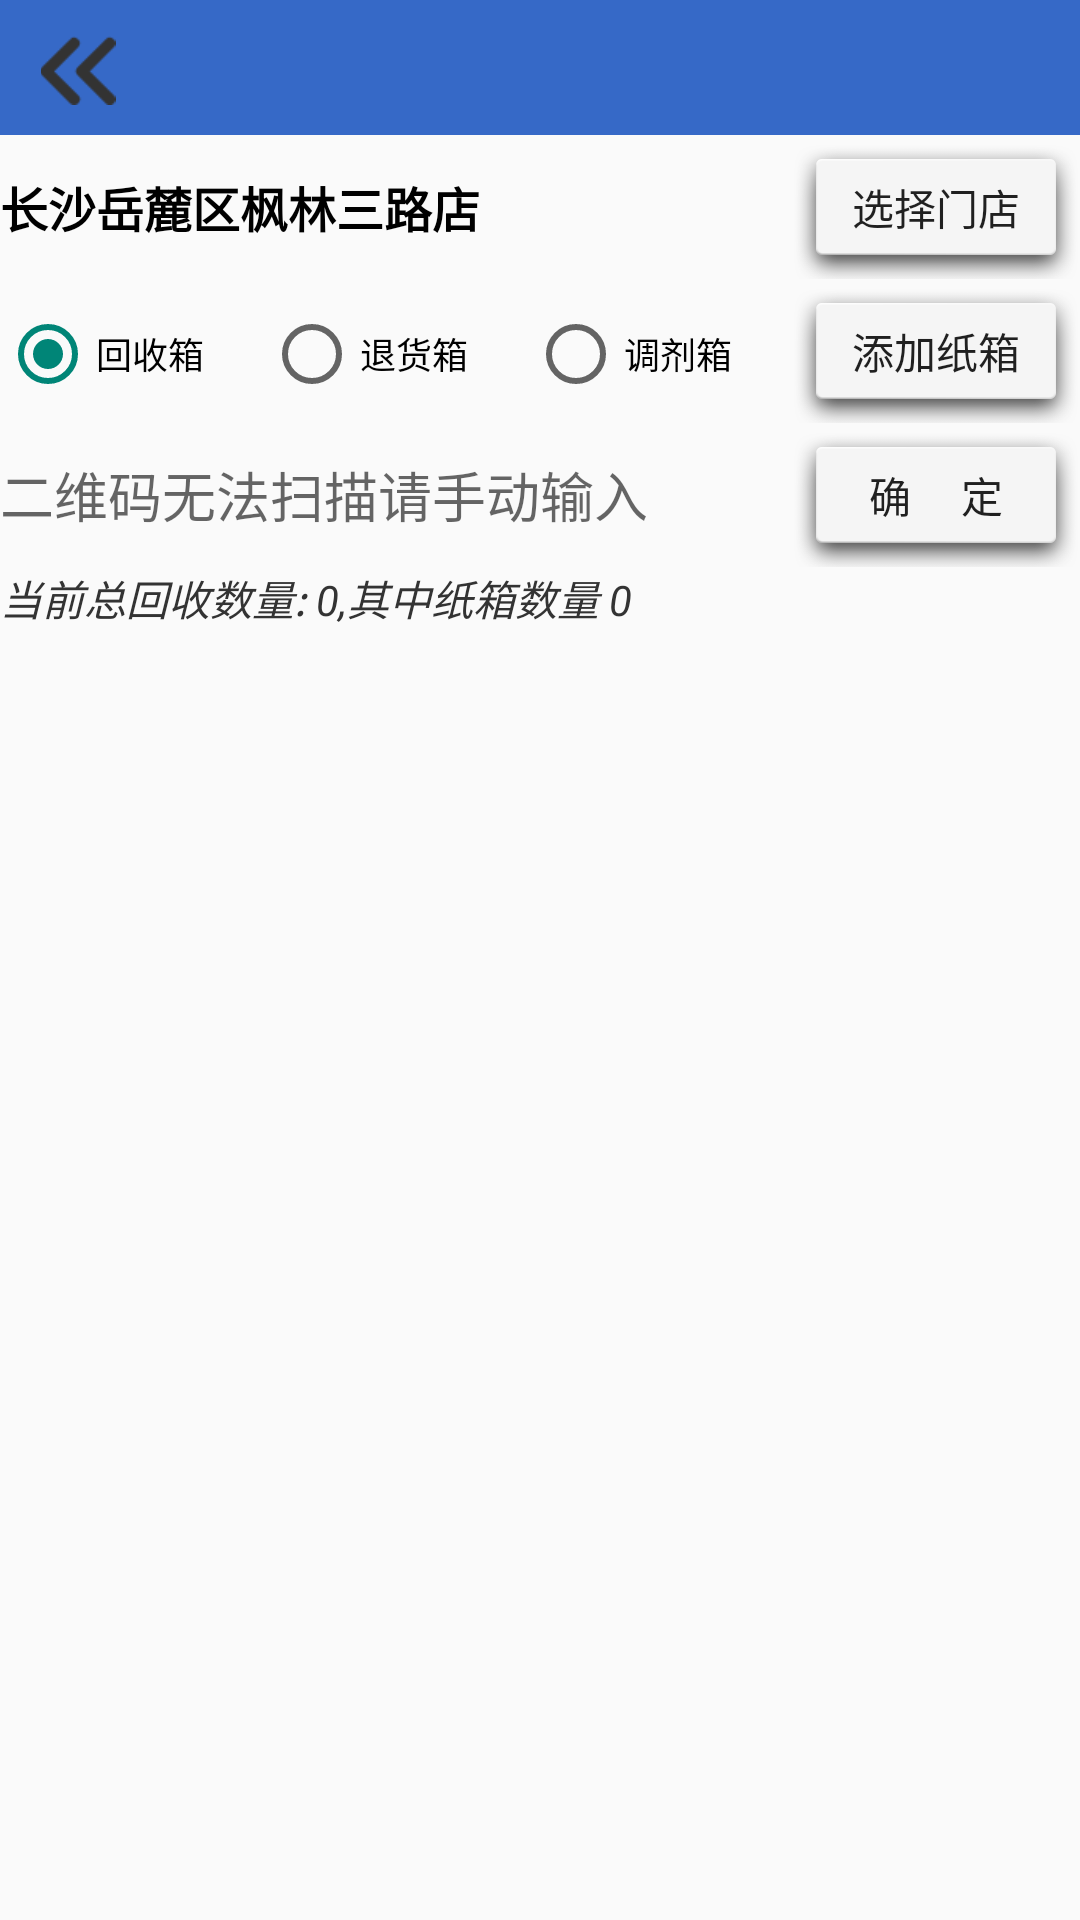

Point at icon controls on the screen. Image size 1080w x 1920h, points as [x,y].
back: [78,71]
